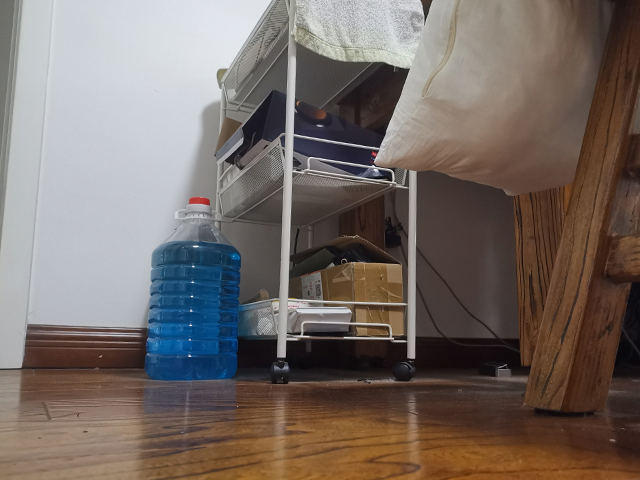wire: (387, 197, 521, 364)
